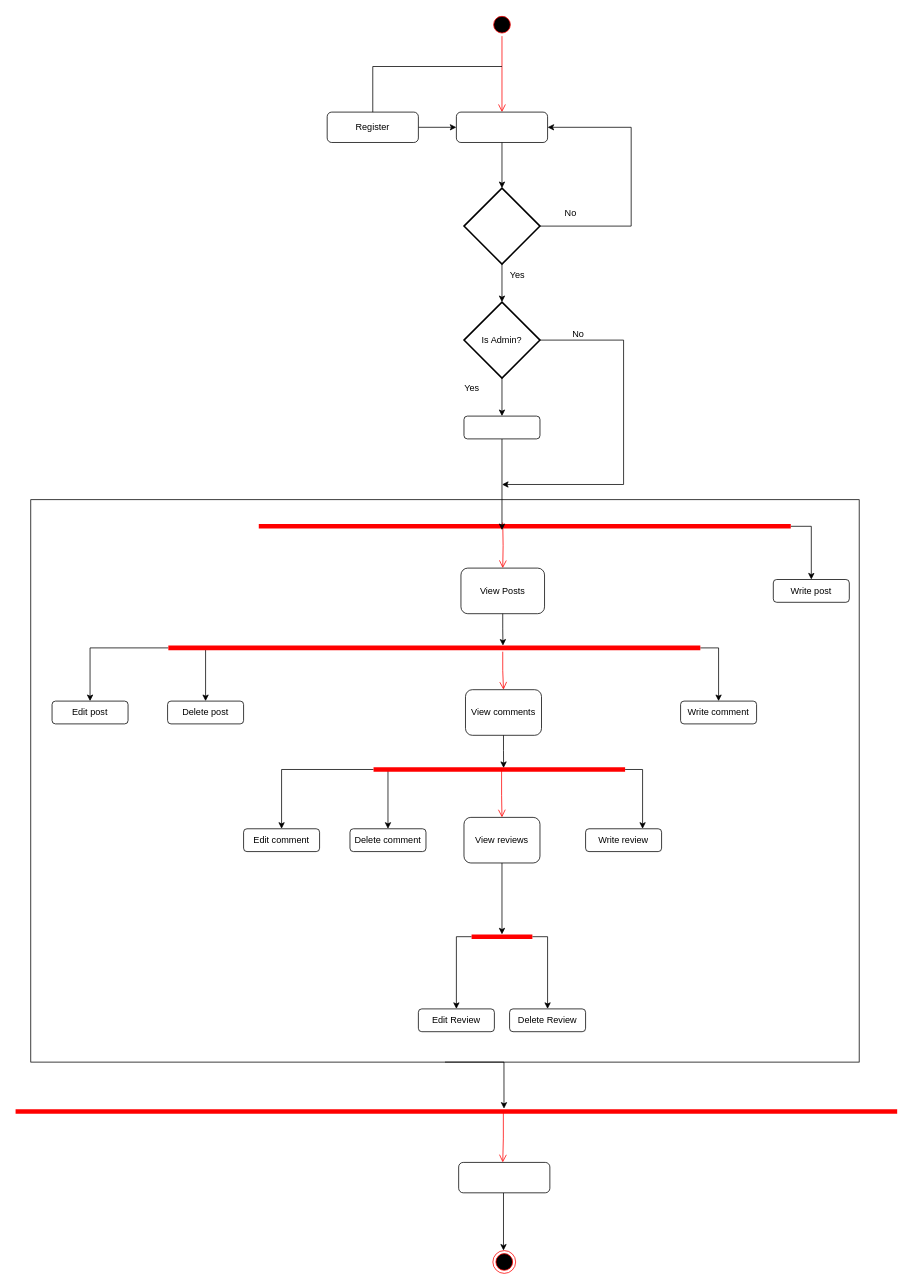
Image size: 912x1287. Some labels were removed from this diagram. The centre of each missing label's shape, as x and y in pixels:
Authen: the point at 501,225
Delete user with his Data: the point at 501,427
Login: the point at 502,126
logout: the point at 504,1177
